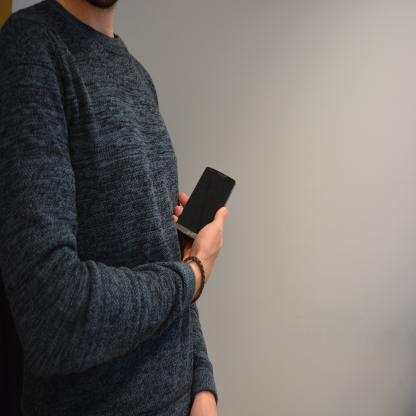smartphone: (175, 166, 236, 240)
